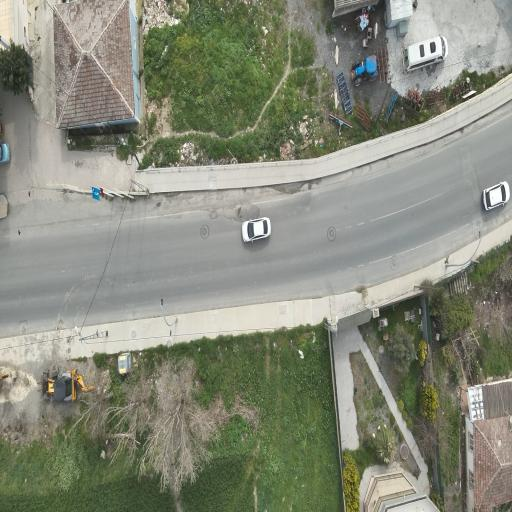car: (41, 369, 93, 400), (482, 181, 508, 209), (242, 217, 271, 242), (0, 142, 9, 162), (0, 193, 6, 217)
